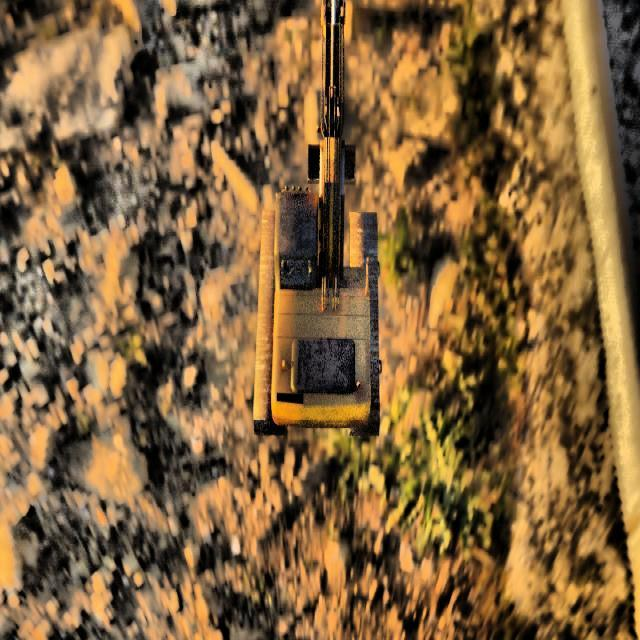excavator: (253, 0, 382, 437)
